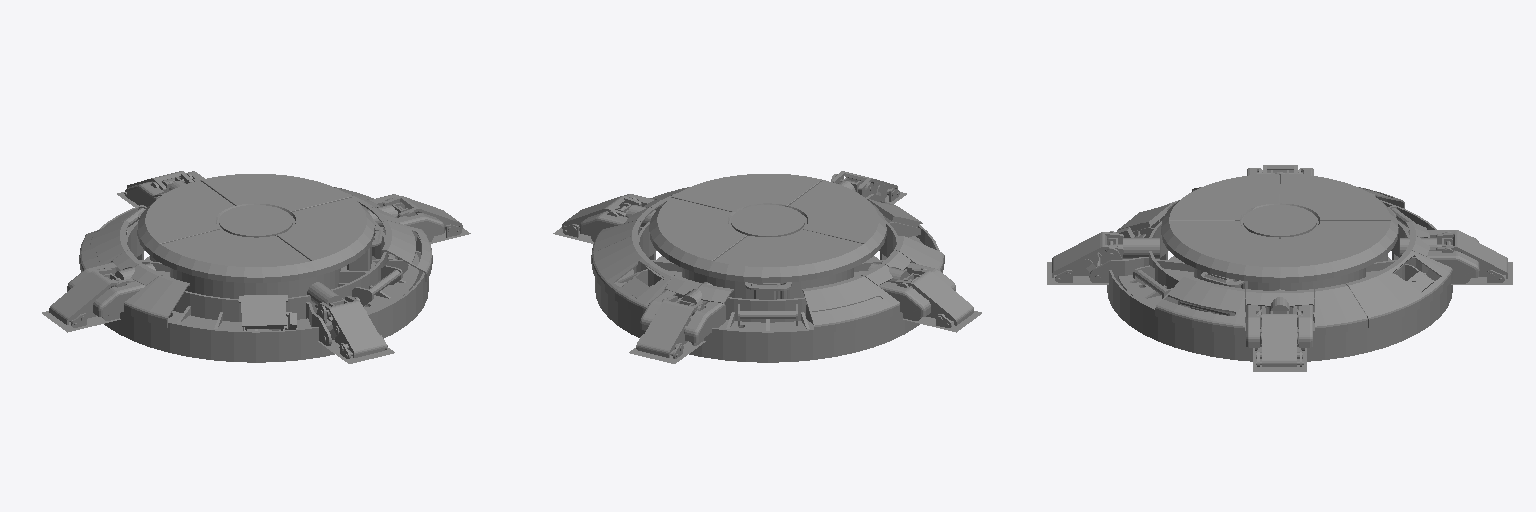
Rendered from portalbutton.obj.
3 views of the same model, side by side, from view 1: azimuth 30°, elevation 25°; view 2: azimuth 150°, elevation 25°; view 3: azimuth 270°, elevation 25° (orthographic).
Parts seen in each view (by area): view 1: Stm_button01, Stm_button02; view 2: Stm_button01, Stm_button02; view 3: Stm_button01, Stm_button02.
Part boxes in pixels (bbox=[...]): Stm_button01: bbox=[42, 171, 470, 363]; Stm_button02: bbox=[137, 174, 383, 282]; Stm_button01: bbox=[553, 171, 981, 363]; Stm_button02: bbox=[649, 174, 886, 299]; Stm_button01: bbox=[1047, 165, 1512, 371]; Stm_button02: bbox=[1161, 174, 1398, 297].
Size of the model in its own units: 125 by 21 by 125.